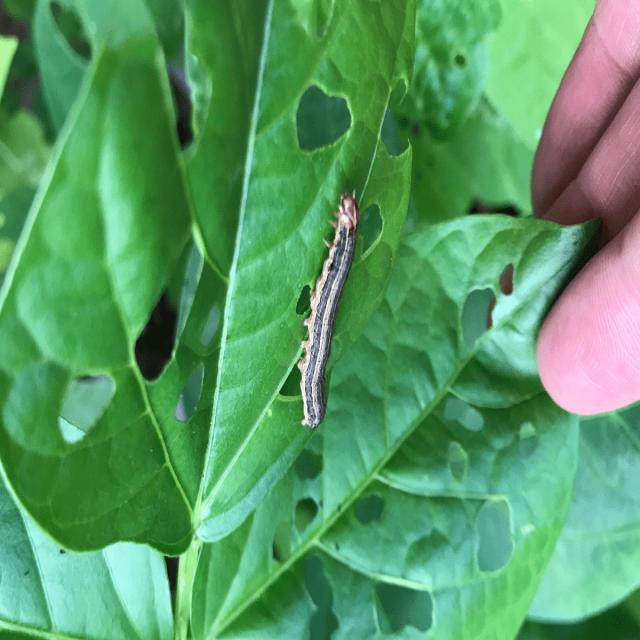armyworm: (296, 190, 359, 428)
